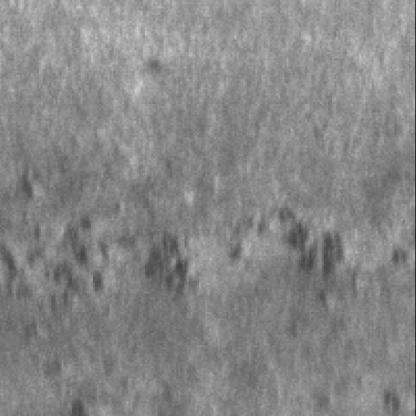rolled-in_scale: (4, 192, 204, 350), (229, 212, 383, 318)
